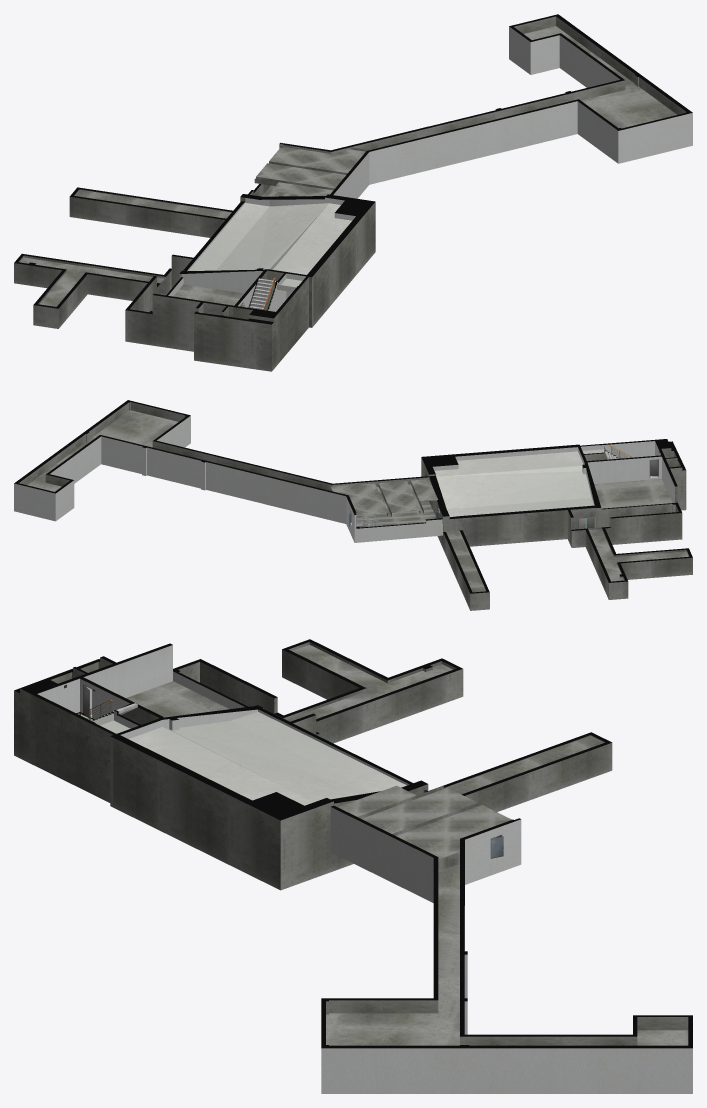
Rendered from -1_B1_창녕문화예술회관.fbx.
The picture shows the model from 3 angles, top to bottom: view 1: azimuth 30°, elevation 25°; view 2: azimuth 150°, elevation 25°; view 3: azimuth 270°, elevation 25°; orthographic projection. The views are drawn at different scales.
Visible parts, largest first — view 1: 벽_콘-M_B0010000000CUFEBOB01B01_ISWL_0000003, 벽_콘-M_B0010000000CUFEBOB01B01_ISWL_0000001, 천정_콘-M_B0010000000CUFEBOB01B01_ISCL_0000003, 천정_콘-M_B0010000000CUFEBOB01B01_ISCL_0000001, 천정_콘-M_B0010000000CUFEBOB01B01_ISCL_0000002, 벽_콘-M_B0010000000CUFEBOB01B01_ISWL_0000005, 벽_콘-M_B0010000000CUFEBOB01B01_ISWL_0000004, 천정_콘-M_B0010000000CUFEBOB01B01_ISCL_0000004, 천정_콘-M_B0010000000CUFEBOB01B01_ISCL_0000006, 바닥_콘-M_B0010000000CUFEBOB01B01_ISFL_0000005, 계단_콘-M_B0010000000CUFEBOB01B01_MVFC_0100001; view 2: 벽_콘-M_B0010000000CUFEBOB01B01_ISWL_0000001, 벽_콘-M_B0010000000CUFEBOB01B01_ISWL_0000003, 천정_콘-M_B0010000000CUFEBOB01B01_ISCL_0000003, 천정_콘-M_B0010000000CUFEBOB01B01_ISCL_0000001, 벽_콘-M_B0010000000CUFEBOB01B01_ISWL_0000005, 천정_콘-M_B0010000000CUFEBOB01B01_ISCL_0000002, 바닥_콘-M_B0010000000CUFEBOB01B01_ISFL_0000005, 벽_콘-M_B0010000000CUFEBOB01B01_ISWL_0000004, 천정_콘-M_B0010000000CUFEBOB01B01_ISCL_0000004, 바닥_콘-M_B0010000000CUFEBOB01B01_ISFL_0000006, 천정_콘-M_B0010000000CUFEBOB01B01_ISCL_0000006, 문_철-M_B0010000000CUFEBOB01B01_ISDR_0000001; view 3: 벽_콘-M_B0010000000CUFEBOB01B01_ISWL_0000003, 벽_콘-M_B0010000000CUFEBOB01B01_ISWL_0000001, 천정_콘-M_B0010000000CUFEBOB01B01_ISCL_0000003, 벽_콘-M_B0010000000CUFEBOB01B01_ISWL_0000005, 천정_콘-M_B0010000000CUFEBOB01B01_ISCL_0000002, 천정_콘-M_B0010000000CUFEBOB01B01_ISCL_0000001, 천정_콘-M_B0010000000CUFEBOB01B01_ISCL_0000004, 벽_콘-M_B0010000000CUFEBOB01B01_ISWL_0000004, 바닥_콘-M_B0010000000CUFEBOB01B01_ISFL_0000005, 천정_콘-M_B0010000000CUFEBOB01B01_ISCL_0000006.
Part boxes in pixels (bbox=[...]): 벽_콘-M_B0010000000CUFEBOB01B01_ISWL_0000003: bbox=[14, 187, 375, 371]; 벽_콘-M_B0010000000CUFEBOB01B01_ISWL_0000001: bbox=[248, 14, 692, 198]; 천정_콘-M_B0010000000CUFEBOB01B01_ISCL_0000003: bbox=[188, 203, 351, 274]; 천정_콘-M_B0010000000CUFEBOB01B01_ISCL_0000001: bbox=[254, 147, 365, 196]; 천정_콘-M_B0010000000CUFEBOB01B01_ISCL_0000002: bbox=[350, 26, 676, 151]; 벽_콘-M_B0010000000CUFEBOB01B01_ISWL_0000005: bbox=[233, 269, 313, 363]; 벽_콘-M_B0010000000CUFEBOB01B01_ISWL_0000004: bbox=[150, 259, 264, 312]; 천정_콘-M_B0010000000CUFEBOB01B01_ISCL_0000004: bbox=[20, 257, 165, 306]; 천정_콘-M_B0010000000CUFEBOB01B01_ISCL_0000006: bbox=[74, 189, 231, 218]; 바닥_콘-M_B0010000000CUFEBOB01B01_ISFL_0000005: bbox=[173, 284, 244, 305]; 계단_콘-M_B0010000000CUFEBOB01B01_MVFC_0100001: bbox=[249, 278, 277, 310]; 벽_콘-M_B0010000000CUFEBOB01B01_ISWL_0000001: bbox=[14, 400, 442, 542]; 벽_콘-M_B0010000000CUFEBOB01B01_ISWL_0000003: bbox=[421, 439, 692, 610]; 천정_콘-M_B0010000000CUFEBOB01B01_ISCL_0000003: bbox=[434, 451, 594, 516]; 천정_콘-M_B0010000000CUFEBOB01B01_ISCL_0000001: bbox=[330, 479, 437, 517]; 벽_콘-M_B0010000000CUFEBOB01B01_ISWL_0000005: bbox=[577, 439, 664, 483]; 천정_콘-M_B0010000000CUFEBOB01B01_ISCL_0000002: bbox=[27, 410, 332, 491]; 바닥_콘-M_B0010000000CUFEBOB01B01_ISFL_0000005: bbox=[594, 478, 672, 508]; 벽_콘-M_B0010000000CUFEBOB01B01_ISWL_0000004: bbox=[570, 463, 675, 529]; 천정_콘-M_B0010000000CUFEBOB01B01_ISCL_0000004: bbox=[588, 527, 688, 581]; 바닥_콘-M_B0010000000CUFEBOB01B01_ISFL_0000006: bbox=[356, 502, 436, 525]; 천정_콘-M_B0010000000CUFEBOB01B01_ISCL_0000006: bbox=[446, 531, 485, 592]; 문_철-M_B0010000000CUFEBOB01B01_ISDR_0000001: bbox=[349, 459, 658, 529]; 벽_콘-M_B0010000000CUFEBOB01B01_ISWL_0000003: bbox=[14, 639, 612, 890]; 벽_콘-M_B0010000000CUFEBOB01B01_ISWL_0000001: bbox=[321, 790, 692, 1093]; 천정_콘-M_B0010000000CUFEBOB01B01_ISCL_0000003: bbox=[128, 712, 406, 805]; 벽_콘-M_B0010000000CUFEBOB01B01_ISWL_0000005: bbox=[30, 676, 166, 807]; 천정_콘-M_B0010000000CUFEBOB01B01_ISCL_0000002: bbox=[326, 851, 688, 1045]; 천정_콘-M_B0010000000CUFEBOB01B01_ISCL_0000001: bbox=[337, 785, 511, 859]; 천정_콘-M_B0010000000CUFEBOB01B01_ISCL_0000004: bbox=[283, 644, 452, 721]; 벽_콘-M_B0010000000CUFEBOB01B01_ISWL_0000004: bbox=[164, 670, 288, 730]; 바닥_콘-M_B0010000000CUFEBOB01B01_ISFL_0000005: bbox=[90, 681, 229, 717]; 천정_콘-M_B0010000000CUFEBOB01B01_ISCL_0000006: bbox=[444, 735, 604, 794].
Size of the model in its own units: 68.57 by 5.79 by 44.01.
Materials: 23 (20 with a texture image).
